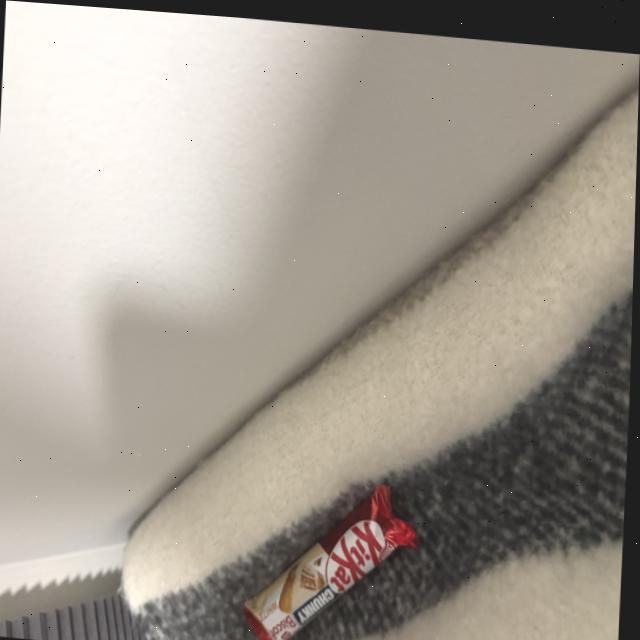chocolate: (229, 457, 427, 640)
